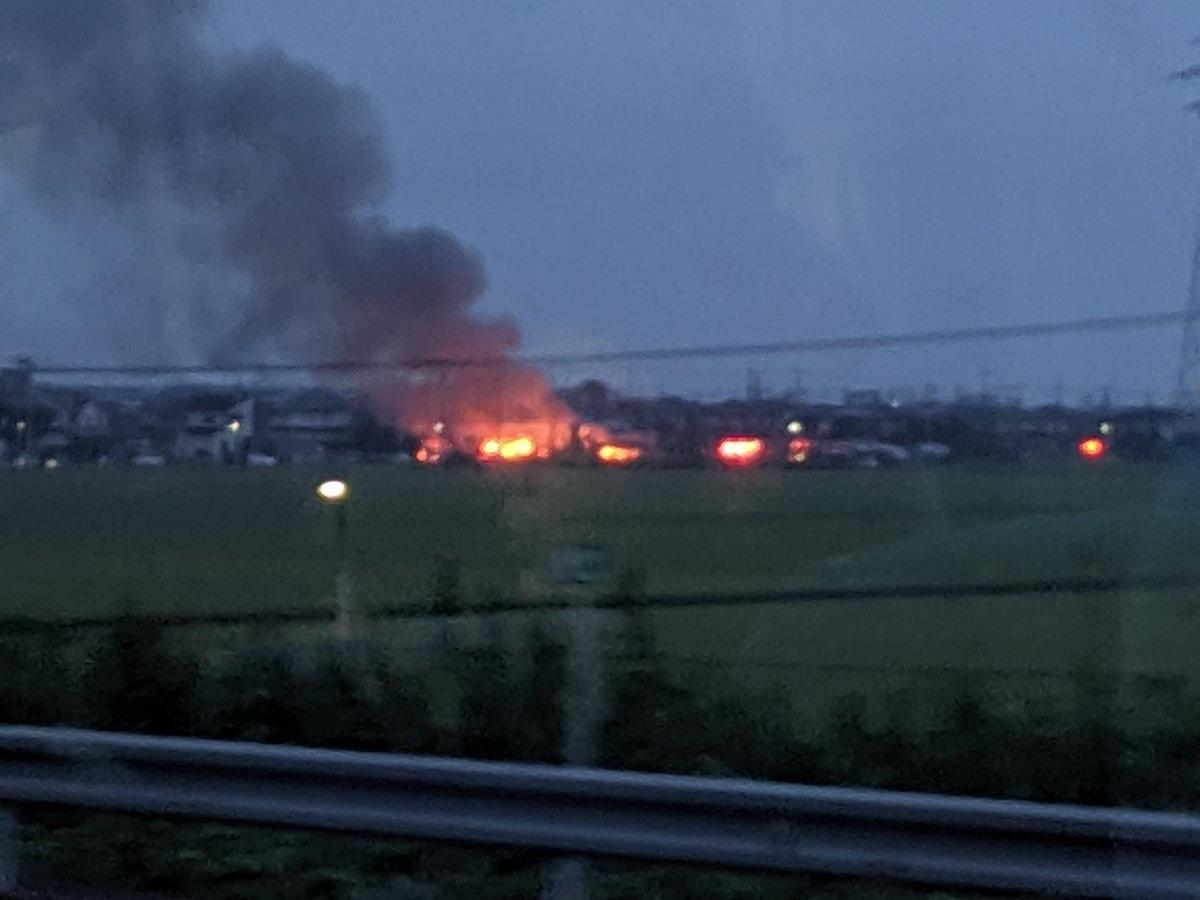fire: (472, 429, 534, 463), (595, 439, 642, 464)
